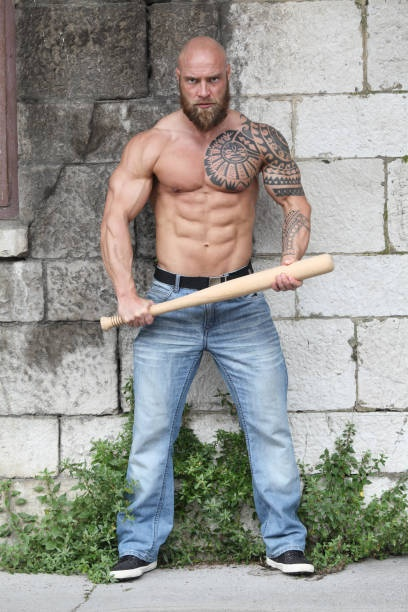bita: (92, 260, 334, 336)
